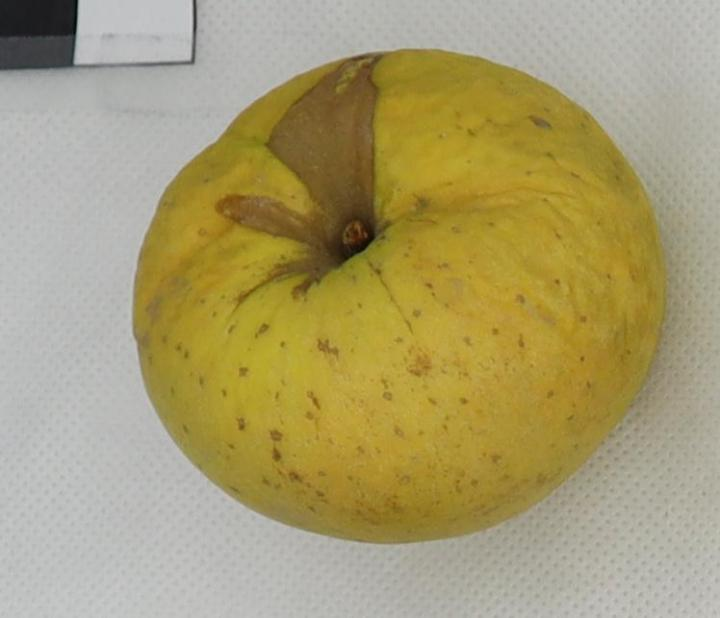apple: (134, 50, 664, 542)
bruise_discoloration: (216, 56, 380, 290)
